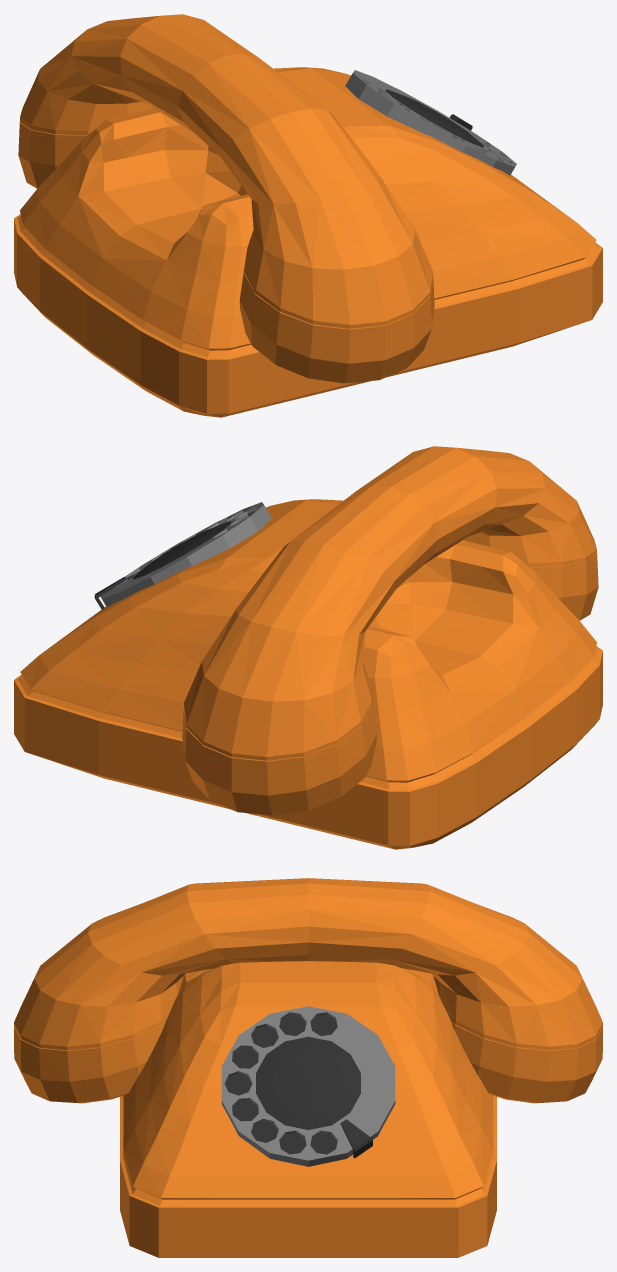
File: props.glb
3 renders of one model, top to bottom at view 1: azimuth 30°, elevation 25°; view 2: azimuth 150°, elevation 25°; view 3: azimuth 270°, elevation 25°, orthographic. The views are drawn at different scales.
Parts seen in each view (by area): view 1: phone; view 2: phone; view 3: phone.
Boxes of the visible parts, bbox=[...] form: phone: bbox=[14, 14, 602, 417]; phone: bbox=[14, 446, 602, 849]; phone: bbox=[14, 878, 602, 1257].
Bounding box in the file's own units: 69.22 × 41.02 × 87.67.
Materials: 5 (2 with a texture image).
